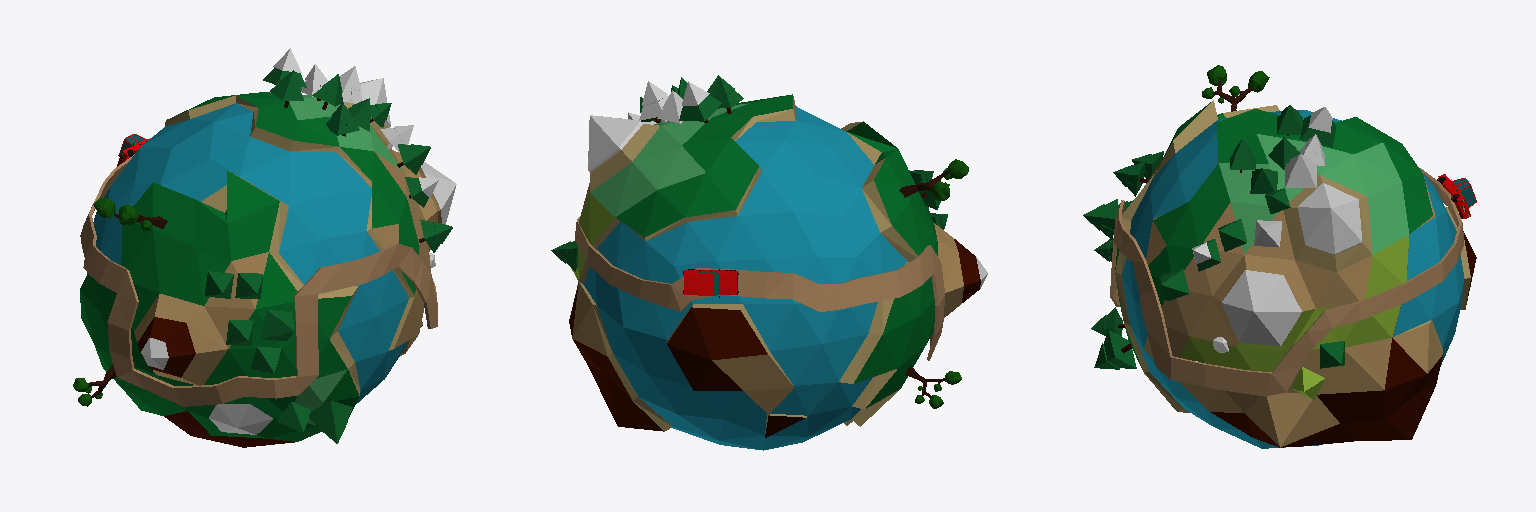
Rendered from earth.obj.
The picture shows the model from 3 angles: view 1: azimuth 30°, elevation 25°; view 2: azimuth 150°, elevation 25°; view 3: azimuth 270°, elevation 25°; orthographic projection.
Parts seen in each view (by area): view 1: 棱角球_棱角球.001, 平面, 立方体.019_立方体.027, Icosphere.005, 立方体.014_立方体.022, 立方体.002, 立方体.020_立方体.028, 立方体.018_立方体.026, 立方体.017_立方体.025, Icosphere.000, 立方体, 立方体.009 (+7 smaller); view 2: 棱角球_棱角球.001, 平面, Cube.002, 立方体.002, Icosphere.005, Icosphere.000, 立方体.003, 立方体; view 3: 棱角球_棱角球.001, 平面, Icosphere.005, 立方体.019_立方体.027, 立方体.002, 立方体.003, Cube.002, 立方体.014_立方体.022, 立方体.008, 立方体.013_立方体.016, 立方体.011_立方体.014, 立方体.010_立方体.013 (+6 smaller).
Part boxes in pixels (x1,y1,x2,y2): 棱角球_棱角球.001: (80,78,456,447); 平面: (80,154,437,406); 立方体.019_立方体.027: (309,399,352,443); Icosphere.005: (93,197,167,231); 立方体.014_立方体.022: (261,310,294,341); 立方体.002: (263,48,306,87); 立方体.020_立方体.028: (205,271,233,298); 立方体.018_立方体.026: (226,320,253,345); 立方体.017_立方体.025: (235,273,262,298); Icosphere.000: (73,365,116,406); 立方体: (270,70,303,107); 立方体.009: (397,144,430,174); 棱角球_棱角球.001: (569,94,987,450); 平面: (575,217,944,360); Cube.002: (683,269,738,297); 立方体.002: (679,81,721,122); Icosphere.005: (899,159,968,200); Icosphere.000: (905,366,961,408); 立方体.003: (639,81,668,122); 立方体: (712,77,743,113); 棱角球_棱角球.001: (1115,100,1476,448); 平面: (1110,168,1463,396); Icosphere.005: (1202,65,1269,111); 立方体.019_立方体.027: (1094,330,1136,369); 立方体.002: (1300,107,1335,147); 立方体.003: (1285,154,1316,187); Cube.002: (1437,174,1476,218); 立方体.014_立方体.022: (1083,199,1117,239); 立方体.008: (1254,220,1281,246); 立方体.013_立方体.016: (1291,367,1325,399); 立方体.011_立方体.014: (1160,269,1189,300); 立方体.010_立方体.013: (1192,239,1220,271).
Bounding box in the file's own units: 7.39 × 6.66 × 6.72.